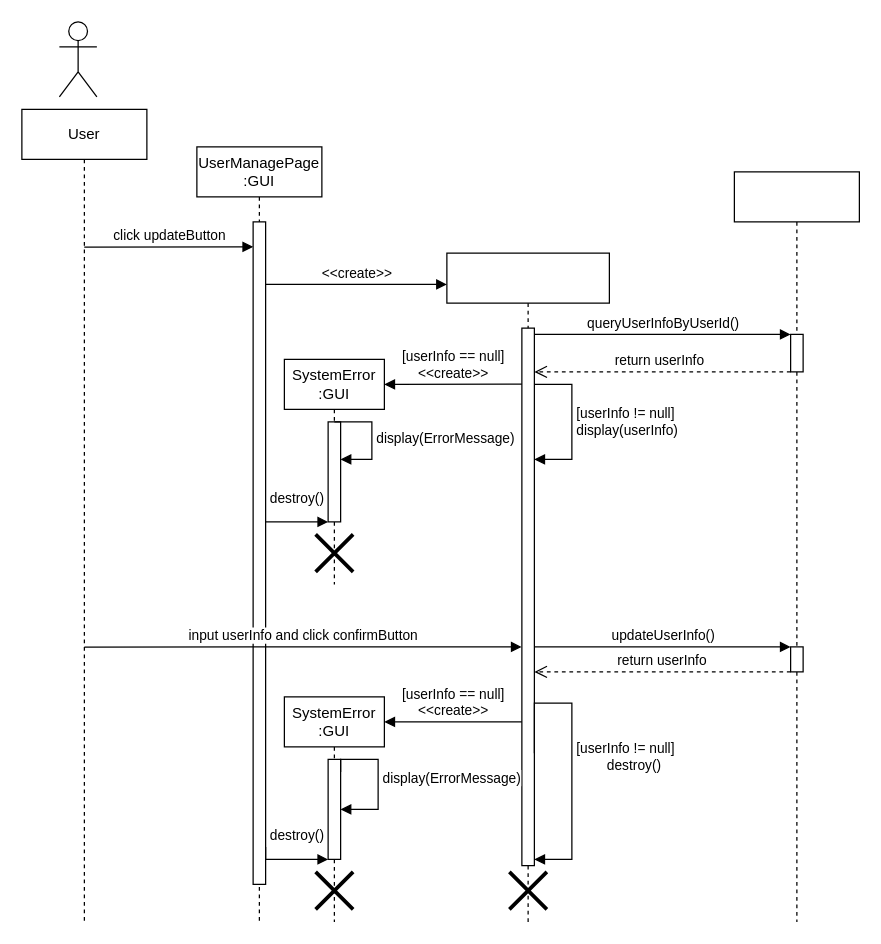
Some shapes in this 881 by 944 pixel diagram are drawn without their labels. Here are the shapes that lost their labels. From the top down, the box of each, then its label:
(733, 171, 859, 922): :System
(446, 252, 609, 922): UpdateUserInfoDialog :GUI
